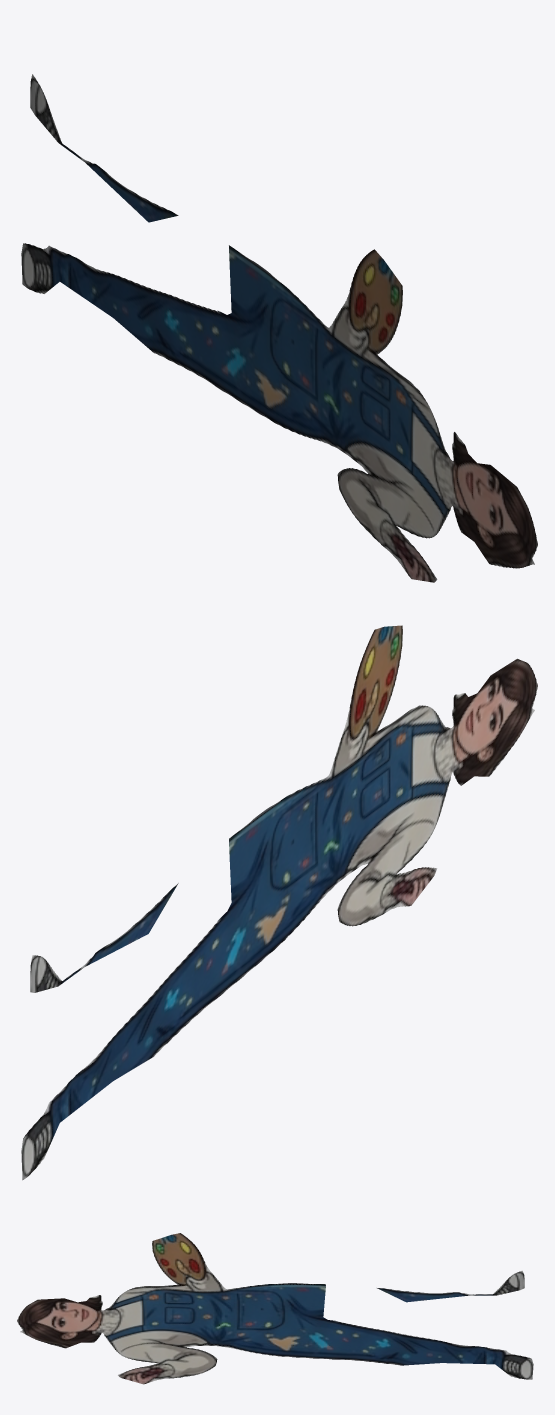
The model's file is person.obj.
3 renders of one model, top to bottom at view 1: azimuth 30°, elevation 25°; view 2: azimuth 150°, elevation 25°; view 3: azimuth 270°, elevation 25°, orthographic. The views are drawn at different scales.
Visible parts, largest first — view 1: person_cutout; view 2: person_cutout; view 3: person_cutout.
Part boxes in pixels (box(x1,y1,x2,y2)): person_cutout: box(21, 74, 537, 582); person_cutout: box(21, 625, 537, 1180); person_cutout: box(17, 1233, 533, 1384).
Bounding box in the file's own units: 0 × 0.0542 × 0.15.
